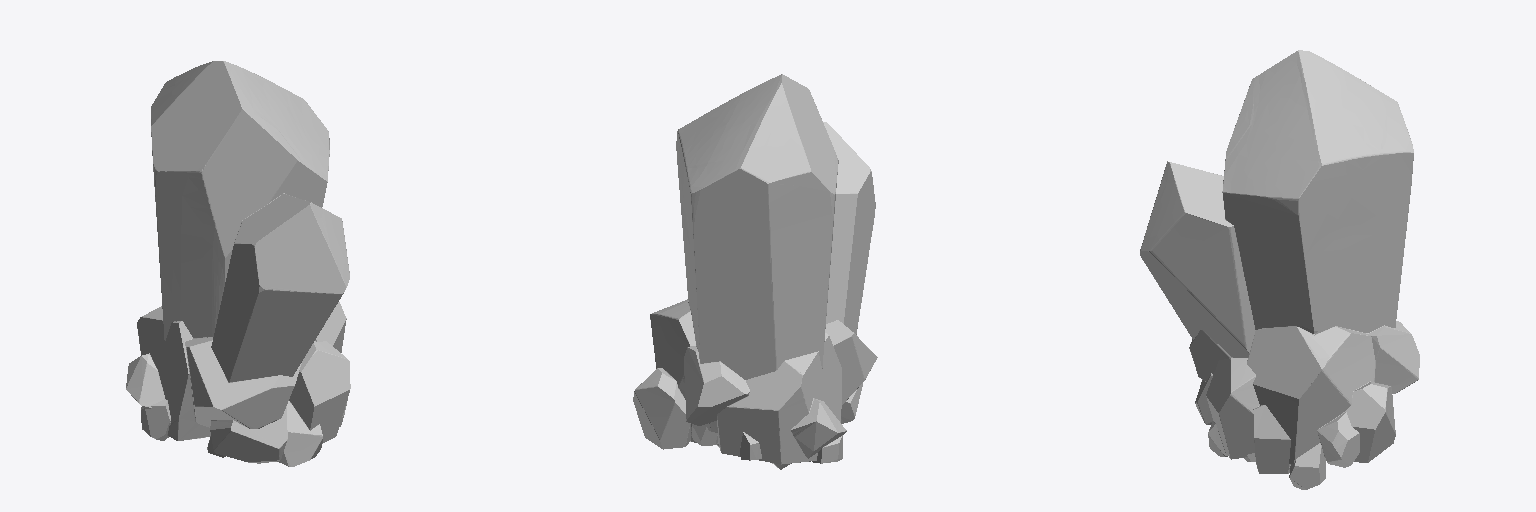
The model's file is Crystal3.obj.
The picture shows the model from 3 angles: view 1: azimuth 30°, elevation 25°; view 2: azimuth 150°, elevation 25°; view 3: azimuth 270°, elevation 25°; orthographic projection.
Visible parts, largest first — view 1: Group17767; view 2: Group17767; view 3: Group17767.
Boxes of the visible parts, <box> form: Group17767: <box>126,61,350,466</box>; Group17767: <box>633,74,877,469</box>; Group17767: <box>1140,50,1419,489</box>.
Size of the model in its own units: 1.47 by 2.72 by 1.77.